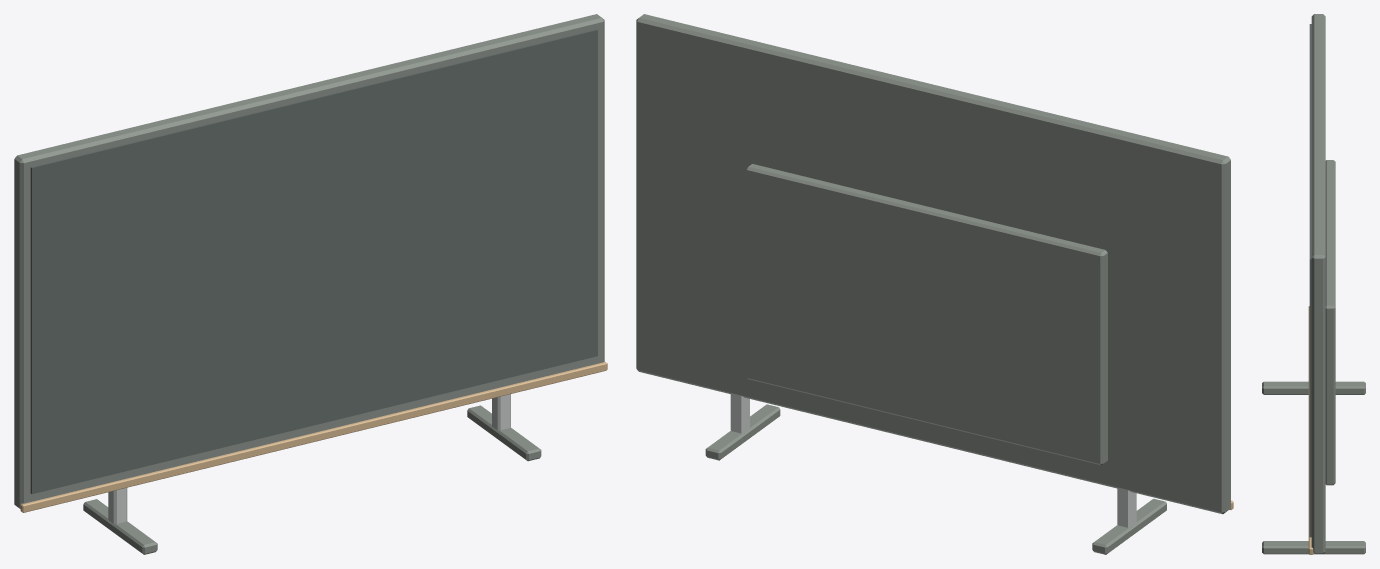
The picture shows the model from 3 angles, left to right: view 1: azimuth 30°, elevation 25°; view 2: azimuth 150°, elevation 25°; view 3: azimuth 270°, elevation 25°; orthographic projection. The views are drawn at different scales.
Visible parts, largest first — view 1: tv_screen, tv_dark, tv_oak, tv_steel; view 2: tv_dark, tv_steel; view 3: tv_dark, tv_screen, tv_oak.
Part boxes in pixels (x1,y1,x2,y2): tv_screen: (30, 29, 597, 494); tv_dark: (14, 14, 604, 554); tv_oak: (20, 361, 607, 512); tv_steel: (108, 394, 510, 524); tv_dark: (636, 14, 1230, 554); tv_steel: (730, 393, 1136, 527); tv_dark: (1262, 14, 1365, 554); tv_screen: (1309, 24, 1311, 537); tv_oak: (1308, 306, 1313, 554).
Size of the model in its own units: 1.22 by 0.79 by 0.22.
